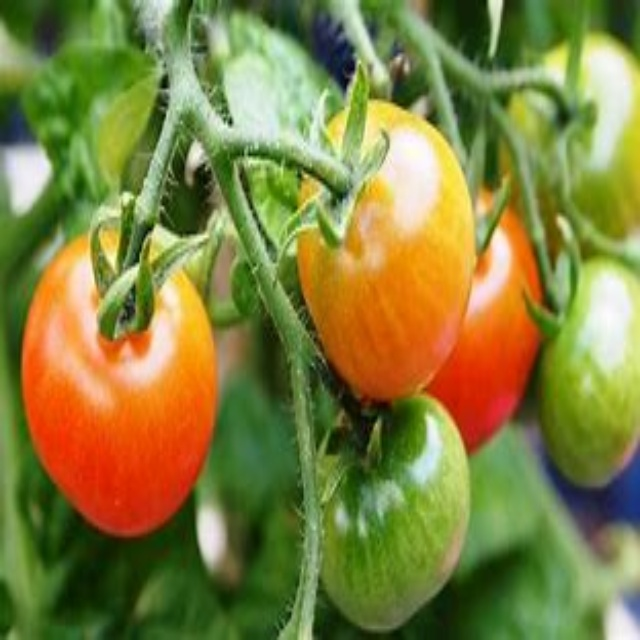tomato: (279, 99, 473, 401), (23, 238, 213, 532), (277, 393, 466, 625), (485, 37, 639, 250), (416, 185, 533, 460), (540, 260, 639, 483)
